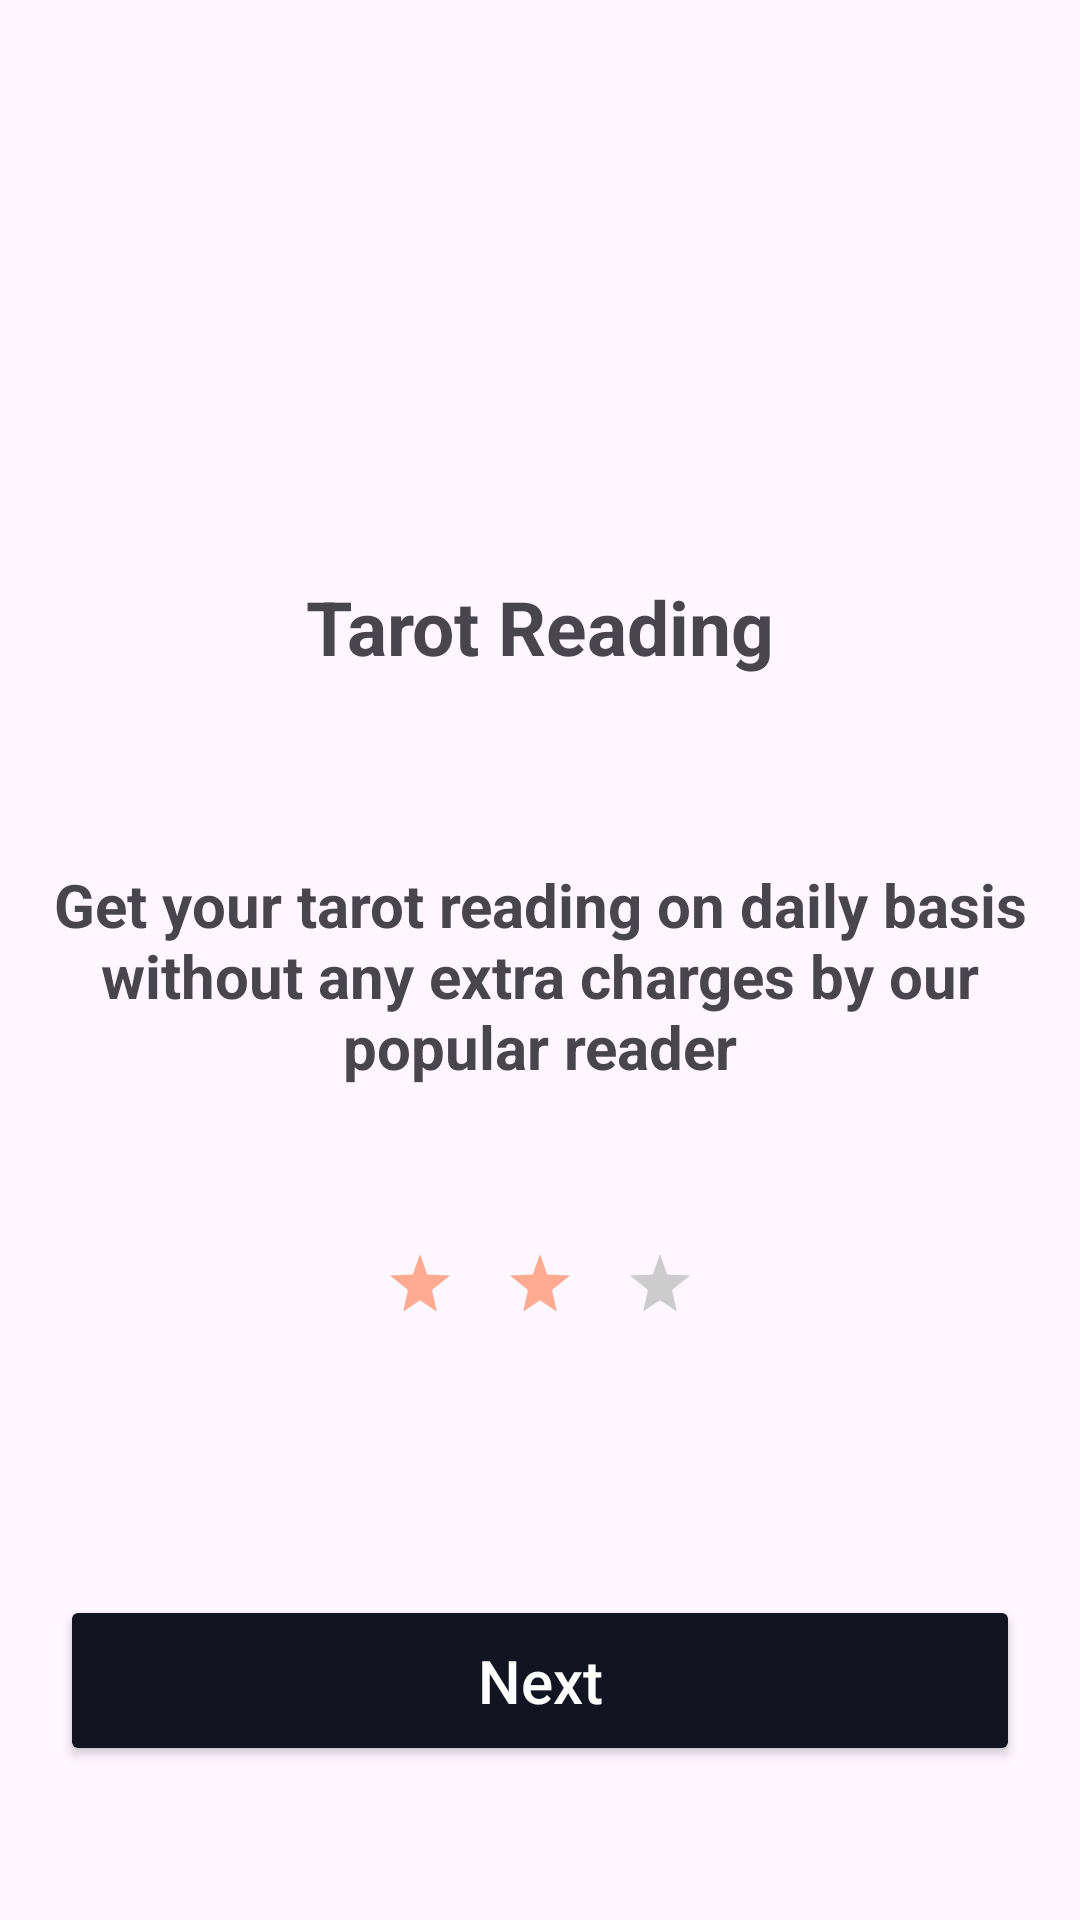

Locate icon controls on the screen. Image size 1080*1920, boxes as BBox(x1, y1, x2, y2).
star: BBox(390, 1255, 450, 1311), BBox(510, 1255, 570, 1311), BBox(631, 1255, 689, 1311)
